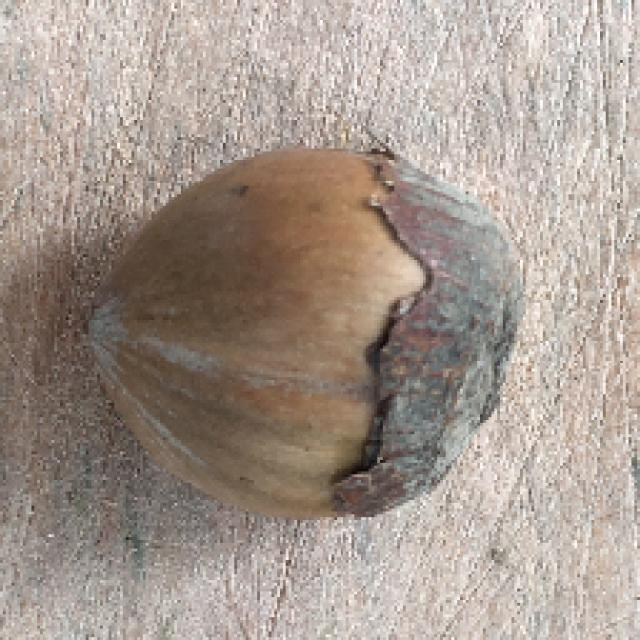damagedHazelnut: (77, 125, 554, 529)
